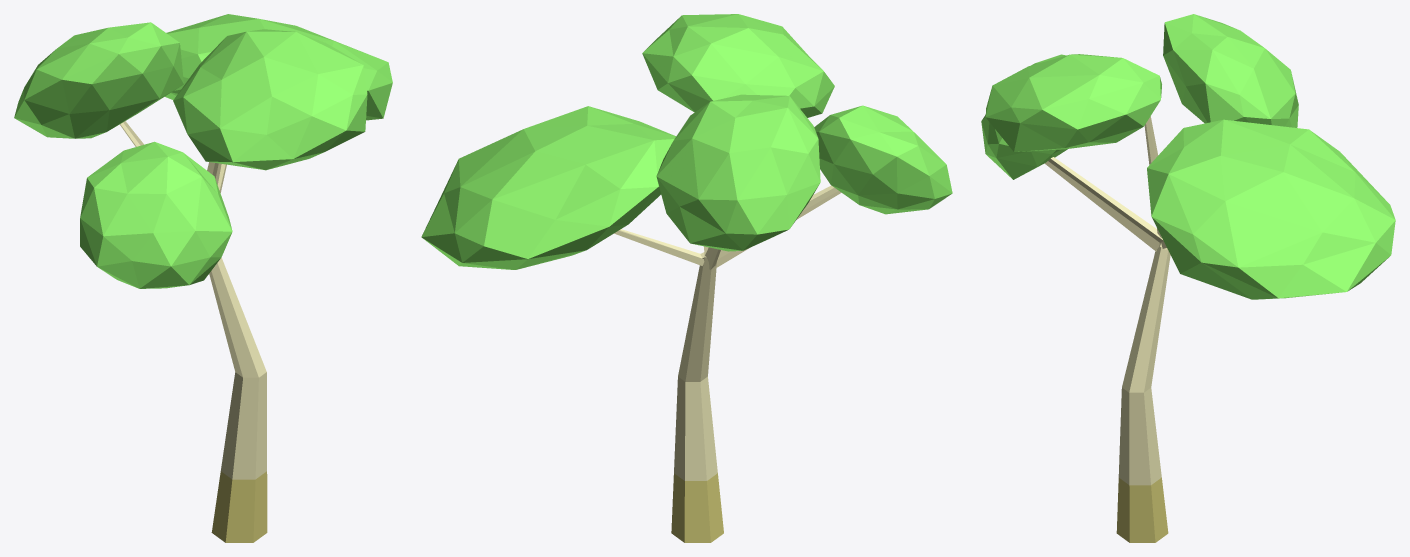
Rendered from eucalyptus.glb.
The picture shows the model from 3 angles, left to right: view 1: azimuth 30°, elevation 25°; view 2: azimuth 150°, elevation 25°; view 3: azimuth 270°, elevation 25°; orthographic projection. The views are drawn at different scales.
Visible parts, largest first — view 1: 棱角球.003; view 2: 棱角球.003; view 3: 棱角球.003.
Boxes of the visible parts, x1,y1,x2,y2 form: 棱角球.003: (14,14,392,542); 棱角球.003: (421,14,952,542); 棱角球.003: (981,14,1395,542).
Size of the model in its own units: 12.43 by 14.86 by 11.77.
